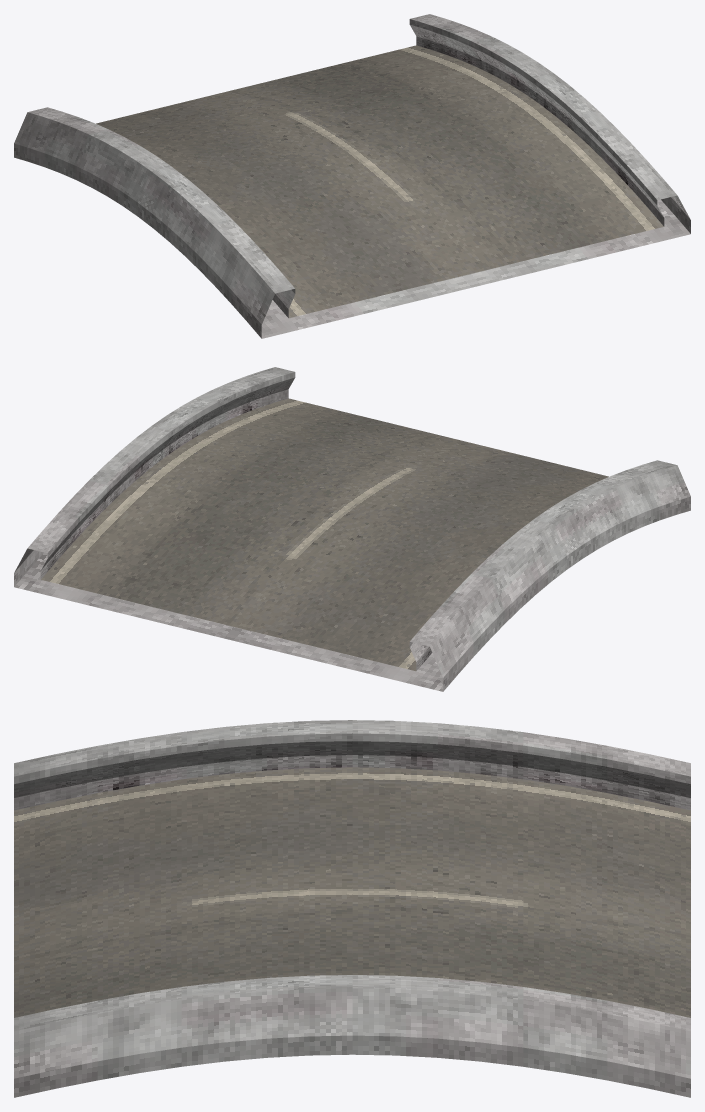
File: road-Straight-BiSlopeUp-BiSlopeDown-Even-Center-Size1.glb
3 renders of one model, top to bottom at view 1: azimuth 30°, elevation 25°; view 2: azimuth 150°, elevation 25°; view 3: azimuth 270°, elevation 25°, orthographic. The views are drawn at different scales.
Visible parts, largest first — view 1: road-Straight-BiSlopeUp-BiSlopeDown-Even-Center-Size1; view 2: road-Straight-BiSlopeUp-BiSlopeDown-Even-Center-Size1; view 3: road-Straight-BiSlopeUp-BiSlopeDown-Even-Center-Size1.
Boxes of the visible parts, x1,y1,x2,y2 form: road-Straight-BiSlopeUp-BiSlopeDown-Even-Center-Size1: [14, 14, 690, 338]; road-Straight-BiSlopeUp-BiSlopeDown-Even-Center-Size1: [14, 367, 690, 691]; road-Straight-BiSlopeUp-BiSlopeDown-Even-Center-Size1: [14, 720, 690, 1097].
Size of the model in its own units: 1 by 0.1641 by 1.
Materials: 2 (2 with a texture image).
